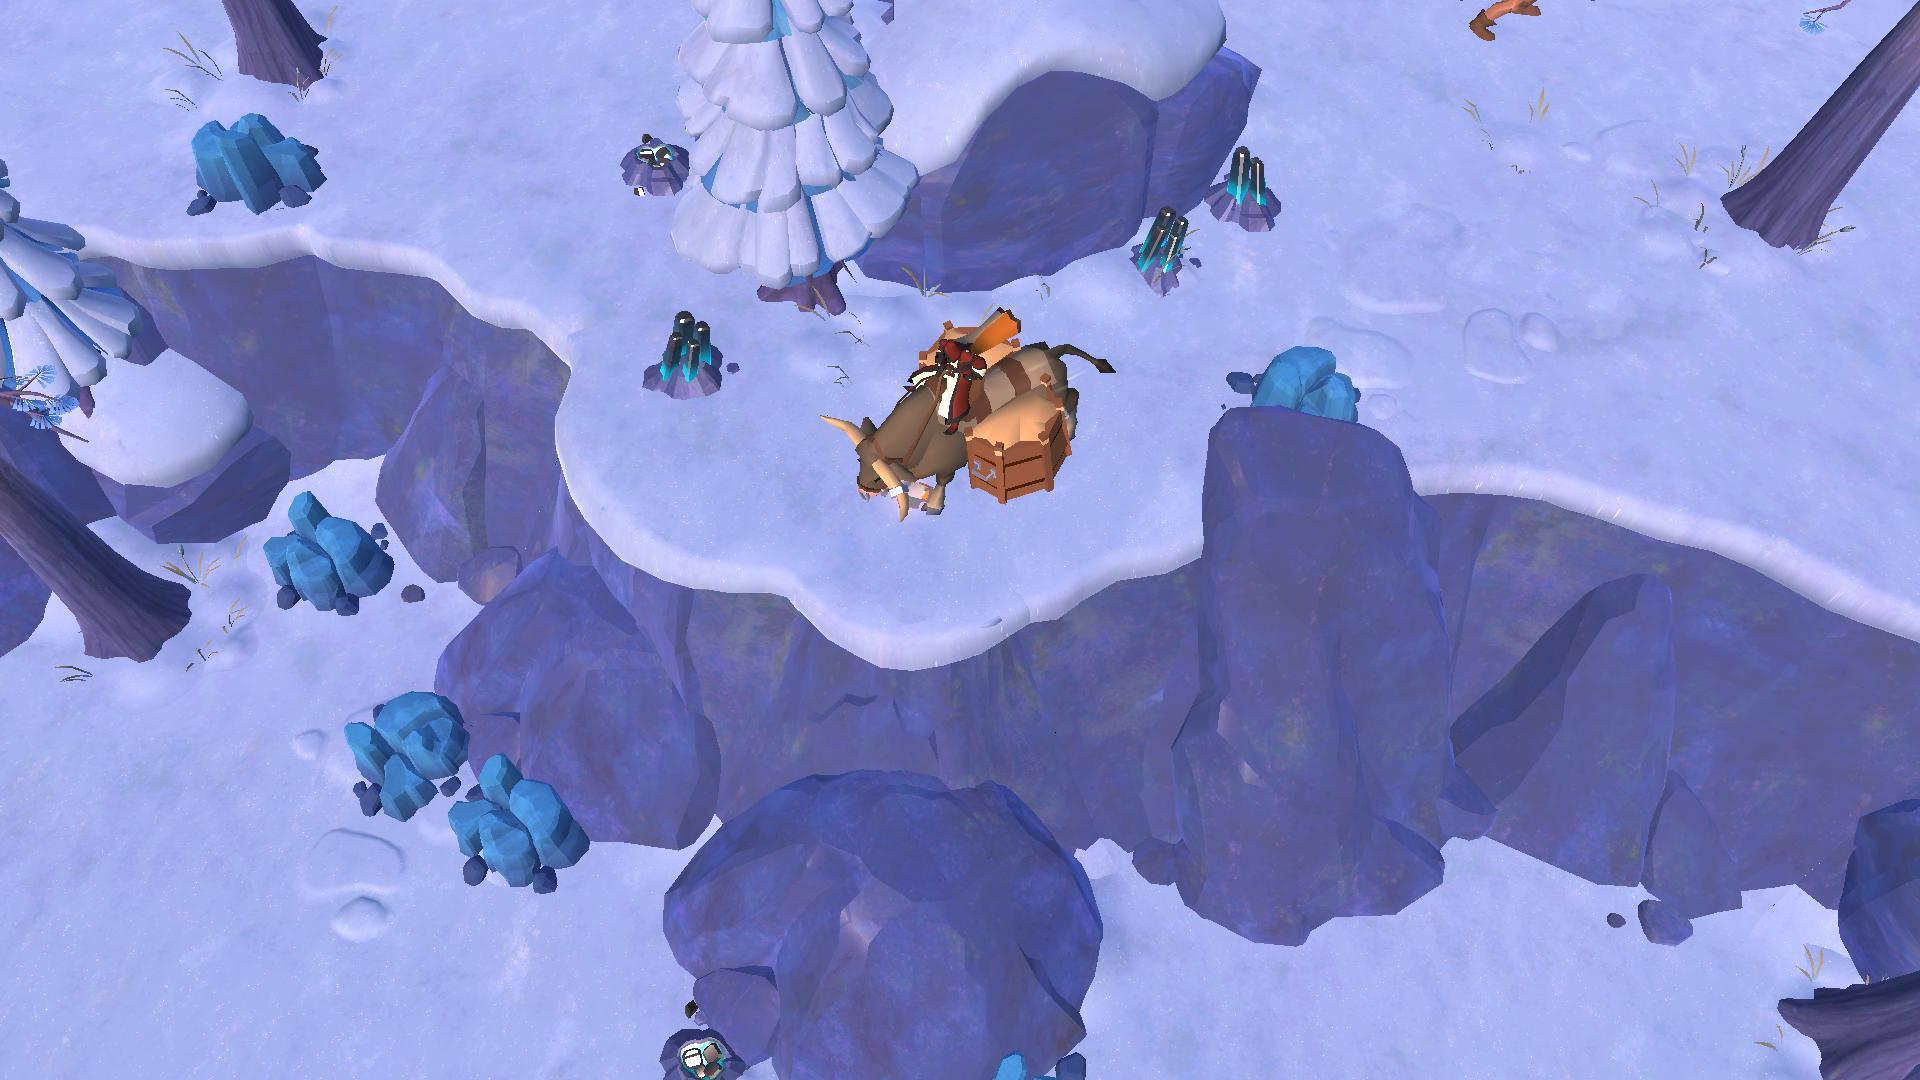ore_t4: (1222, 136, 1274, 225), (657, 307, 713, 385), (1135, 202, 1185, 282)
rock_t4: (444, 761, 592, 897), (253, 487, 393, 616), (339, 684, 464, 820), (171, 115, 324, 216), (1224, 343, 1369, 436)
